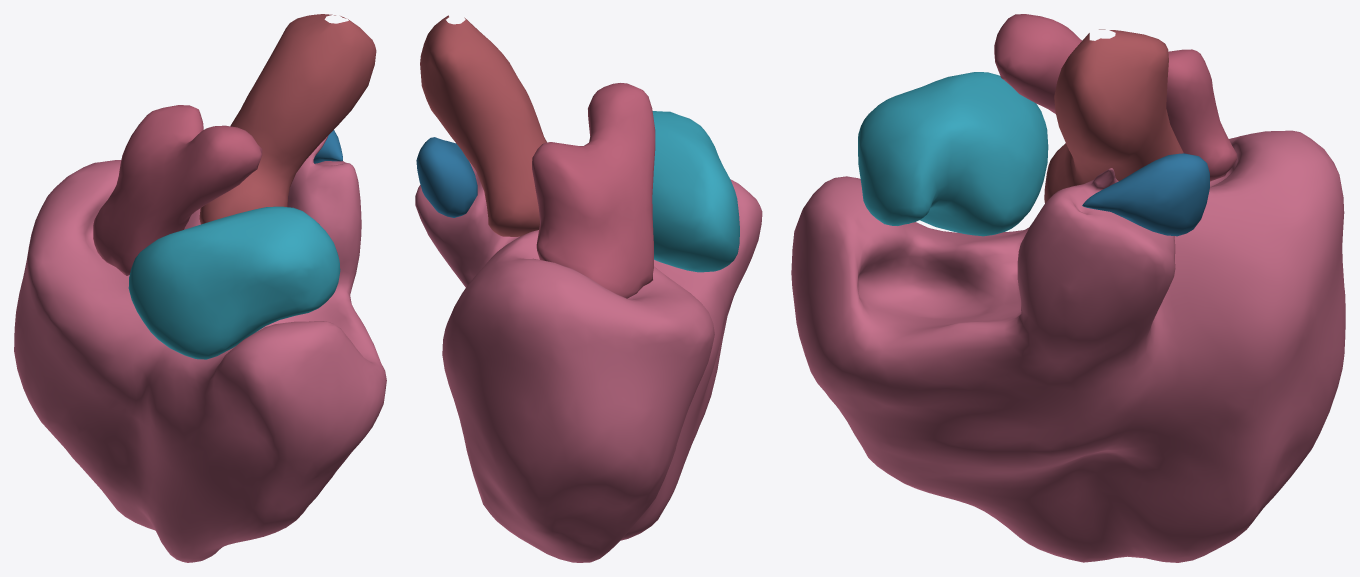
File: frame_25.glb
3 views of the same model, side by side, from view 1: azimuth 30°, elevation 25°; view 2: azimuth 150°, elevation 25°; view 3: azimuth 270°, elevation 25° (orthographic). The views are drawn at different scales.
Parts seen in each view (by area): view 1: Renderer Node; view 2: Renderer Node; view 3: Renderer Node.
Part boxes in pixels (left/top/right/bottom): Renderer Node: left=14, top=14, right=386, bottom=562; Renderer Node: left=415, top=15, right=762, bottom=562; Renderer Node: left=791, top=14, right=1345, bottom=562.
Bounding box in the file's own units: 102 × 159 × 128.
